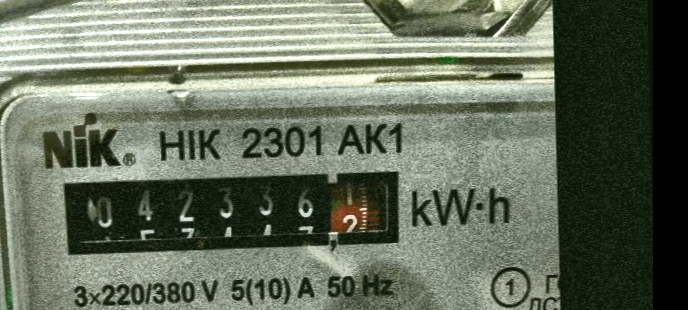0: (92, 196, 113, 231)
1: (340, 181, 353, 210)
2: (173, 190, 194, 226), (337, 214, 357, 236)
3: (214, 185, 234, 223), (252, 184, 272, 220)
4: (133, 188, 153, 225)
6: (291, 186, 314, 221)
screen: (53, 163, 407, 265)
